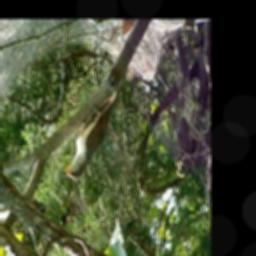Cuckoo: (62, 69, 128, 182)
